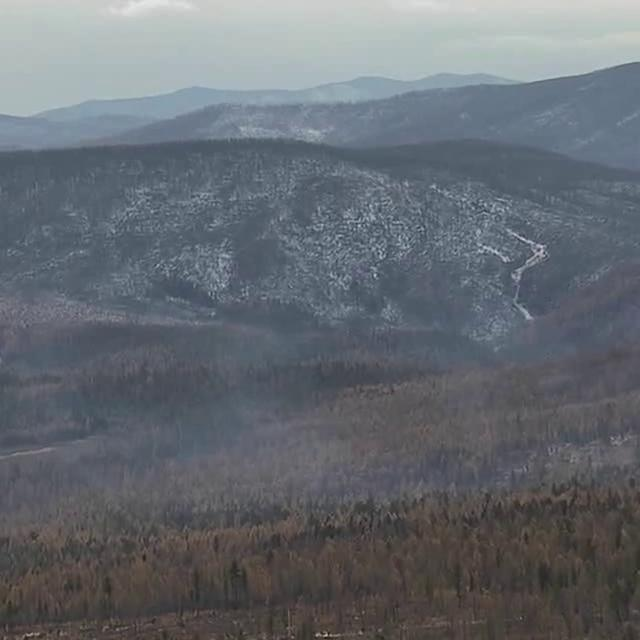Smoke: (0, 271, 639, 538)
